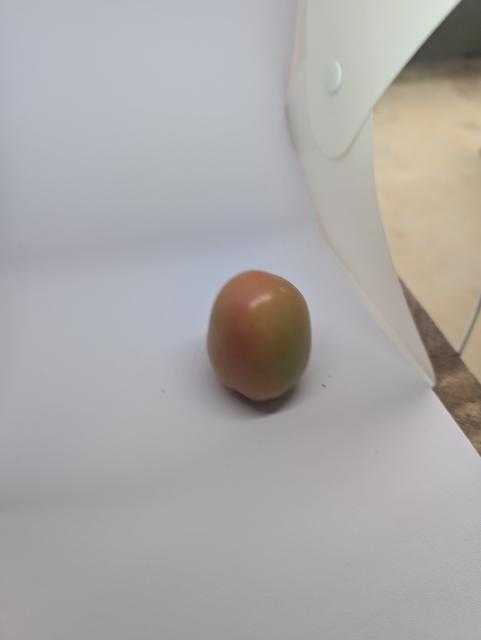turning: (206, 267, 317, 409)
